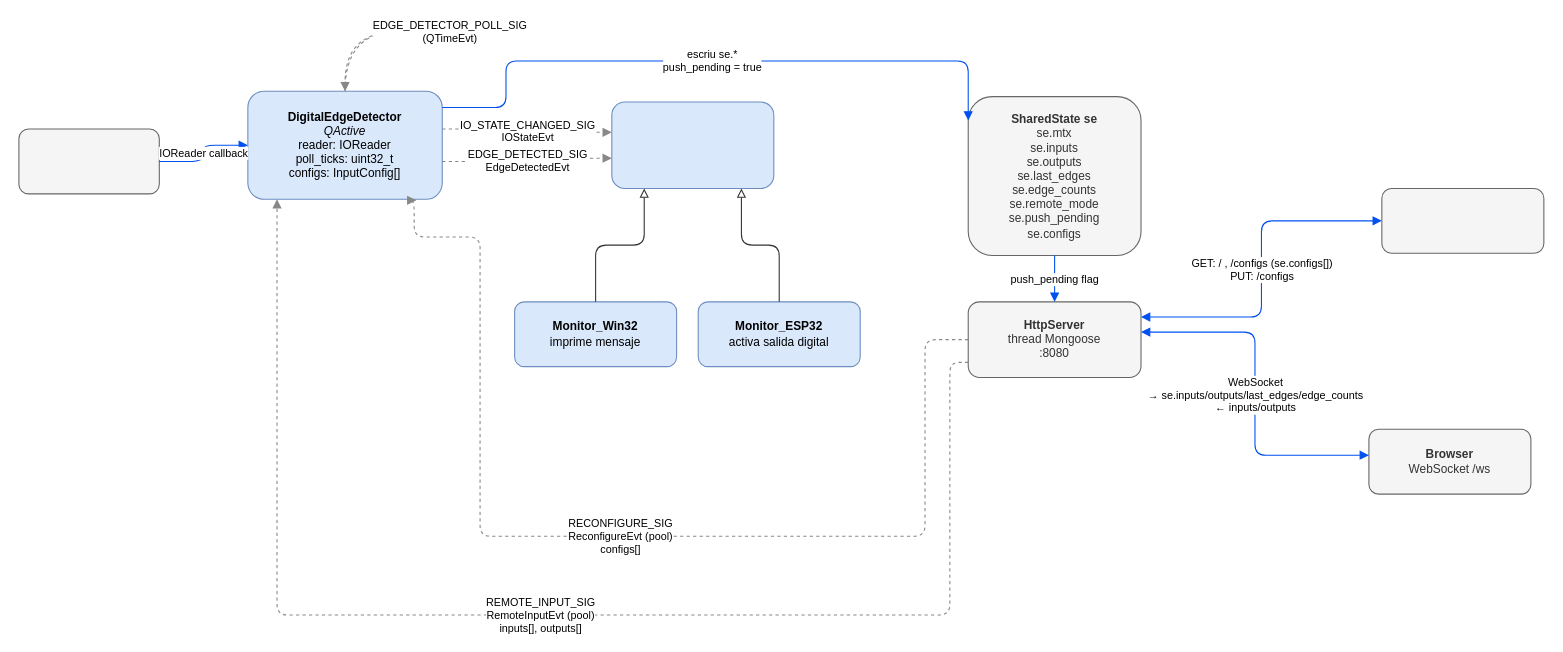
Image size: 1563x652. Some labels were removed from this diagram. The box of each missing label's shape, as (x1, y1, x2, y2) in pixels:
Browser HTTP REST: (1381, 187, 1544, 253)
Hardware IO: (18, 128, 159, 194)
Monitor QActive {abstract}: (611, 101, 774, 188)
